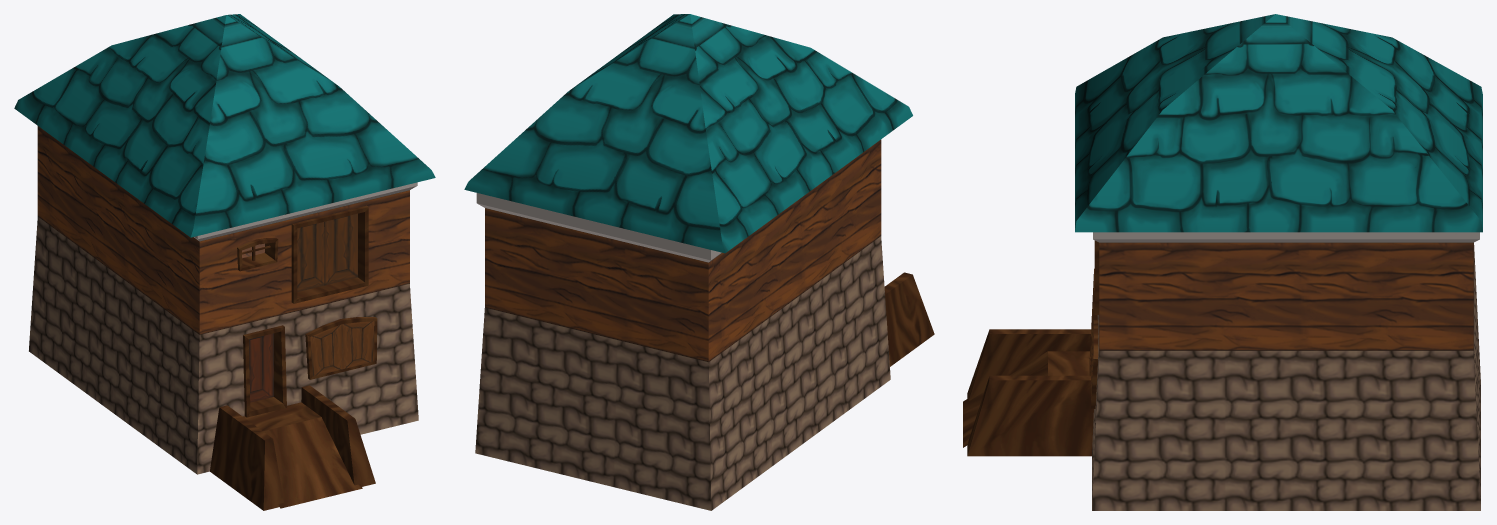
The model's file is Hous1.FBX.
3 views of the same model, side by side, from view 1: azimuth 30°, elevation 25°; view 2: azimuth 150°, elevation 25°; view 3: azimuth 270°, elevation 25° (orthographic). The views are drawn at different scales.
Visible parts, largest first — view 1: object 1, Roof_008, Stairs_01, Stairs_Plane_Important, Door_Double (×2), Window_Thingy (×2), Doorframe_02, Doorframe_01, Door_single, Window_02, Window_01; view 2: object 1, Roof_008, Stairs_01; view 3: object 1, Roof_008, Stairs_01, Stairs_Plane_Important.
Part boxes in pixels (x1,y1,x2,y2): object 1: [29, 126, 418, 474]; Roof_008: [14, 14, 435, 237]; Stairs_01: [210, 385, 375, 510]; Stairs_Plane_Important: [263, 417, 362, 508]; Door_Double (×2): [297, 213, 357, 291]; Window_Thingy (×2): [310, 321, 374, 376]; Doorframe_02: [291, 205, 368, 303]; Doorframe_01: [243, 325, 286, 417]; Door_single: [249, 333, 273, 402]; Window_02: [305, 317, 377, 379]; Window_01: [237, 238, 278, 271]; object 1: [475, 139, 890, 510]; Roof_008: [464, 14, 912, 253]; Stairs_01: [884, 272, 934, 366]; object 1: [1092, 232, 1480, 510]; Roof_008: [1075, 14, 1482, 232]; Stairs_01: [967, 329, 1093, 456]; Stairs_Plane_Important: [963, 351, 1047, 447].
Size of the model in its own units: 6.99 by 10.23 by 11.12.
Materials: 2 (2 with a texture image).
